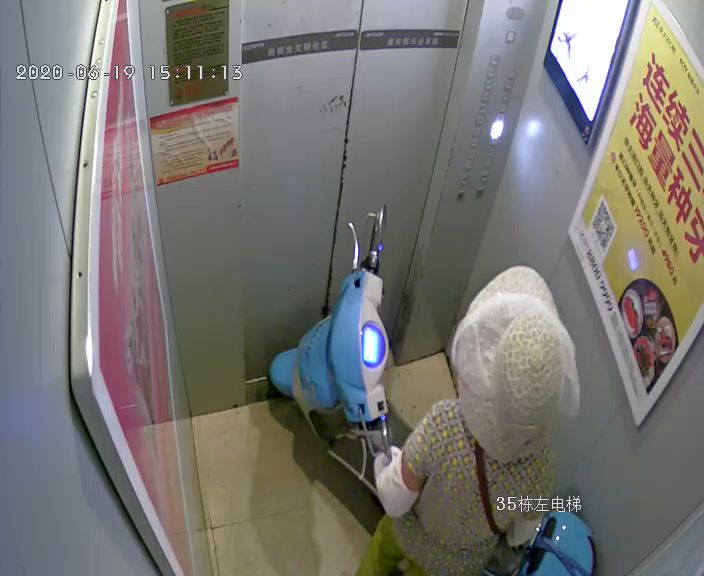Electric-bicycle: (266, 201, 597, 576)
